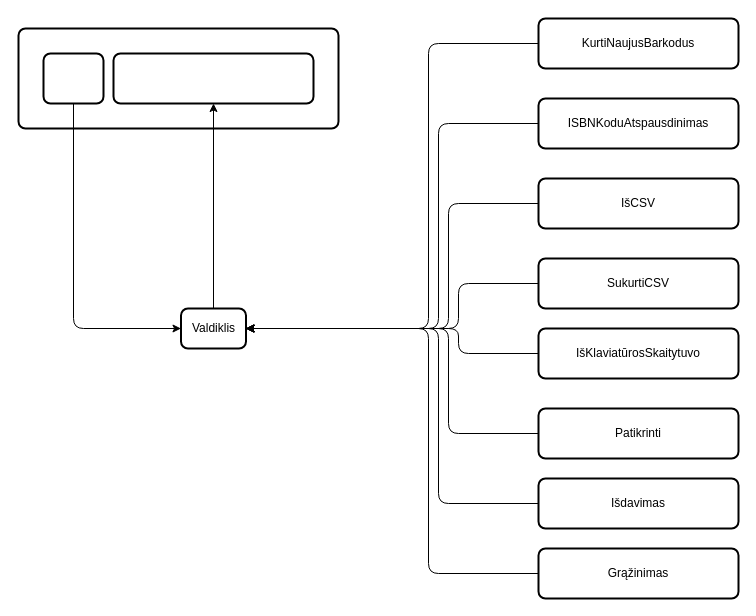
Image size: 756x616. Some labels were removed from this diagram. The box of each missing label's shape, as (x1, y1, x2, y2) in pixels:
Pagrindinis langas: (112, 52, 314, 104)
Šoninis langas: (42, 52, 104, 104)
